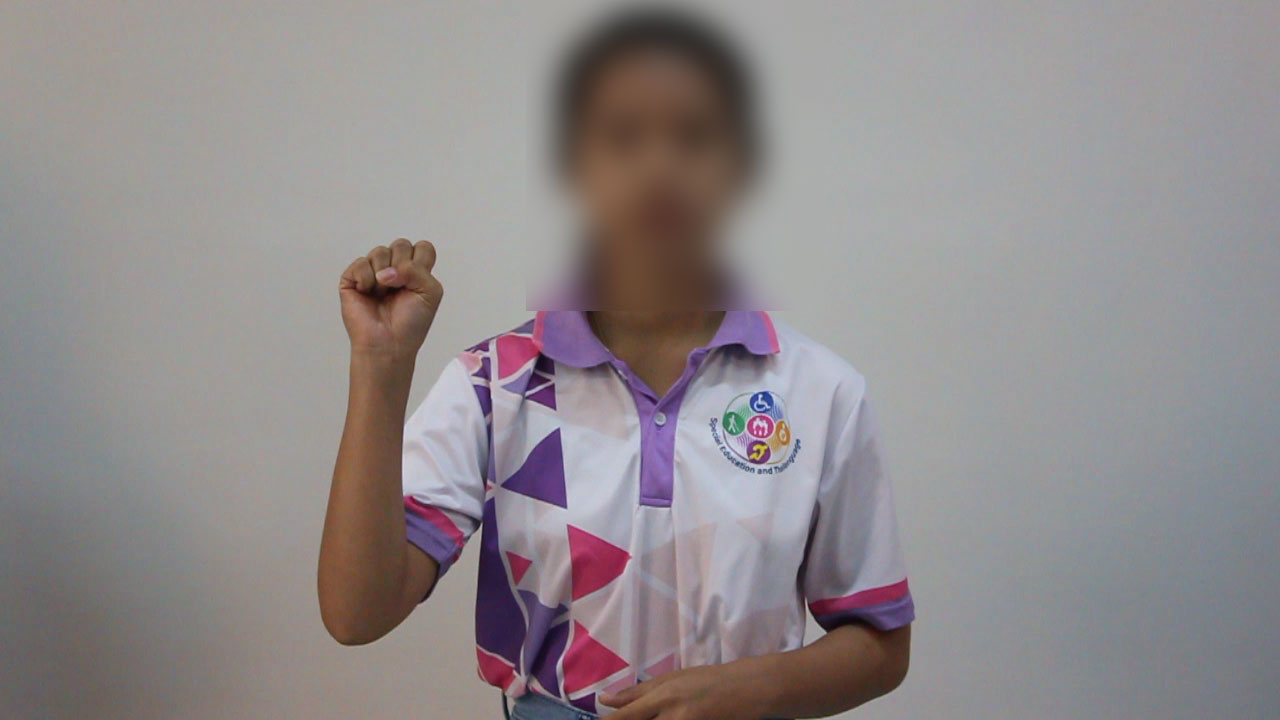sor: (308, 222, 459, 379)
